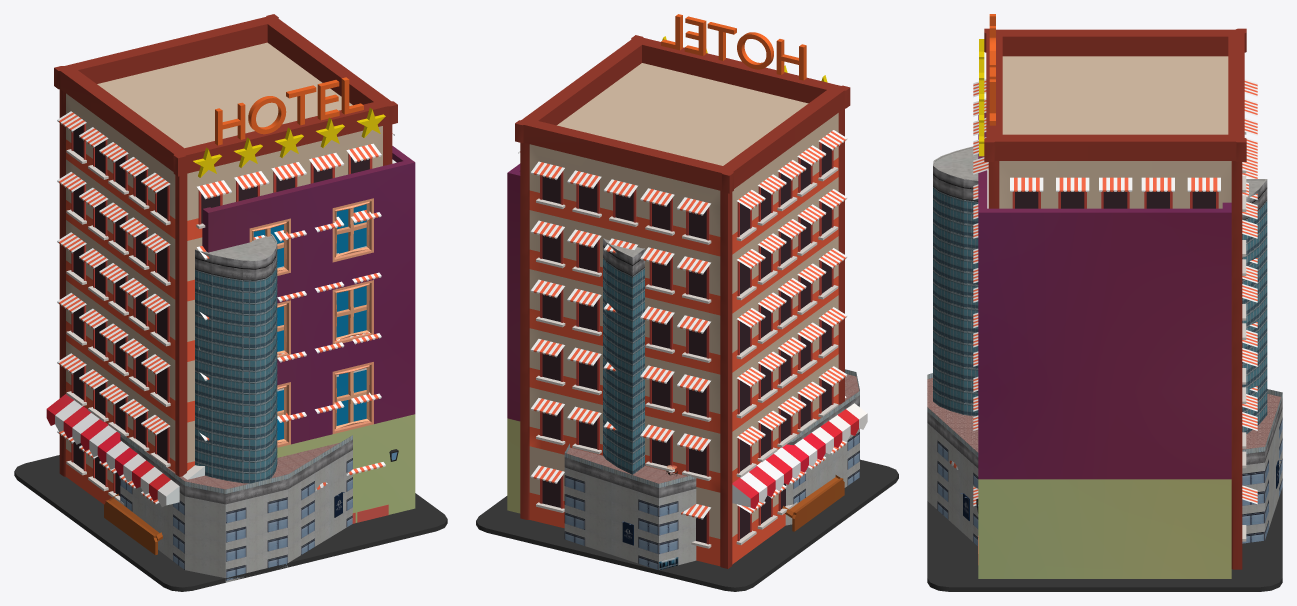
Rendered from hotels.glb.
3 renders of one model, left to right at view 1: azimuth 30°, elevation 25°; view 2: azimuth 150°, elevation 25°; view 3: azimuth 270°, elevation 25°, orthographic. The views are drawn at different scales.
Parts seen in each view (by area): view 1: hotel_stars, hotel_small, hotel_tower; view 2: hotel_stars, hotel_tower, hotel_small; view 3: hotel_small, hotel_stars, hotel_tower.
Boxes of the visible parts, x1,y1,x2,y2 form: hotel_stars: (14,14,447,591); hotel_small: (46,146,415,554); hotel_tower: (120,234,352,582); hotel_stars: (476,14,898,591); hotel_tower: (564,238,859,570); hotel_small: (507,163,867,531); hotel_small: (978,112,1231,578); hotel_stars: (927,14,1282,591); hotel_tower: (927,146,1282,545).
Size of the model in its own units: 2.71 by 4.09 by 2.8.
Materials: 12 (11 with a texture image).
